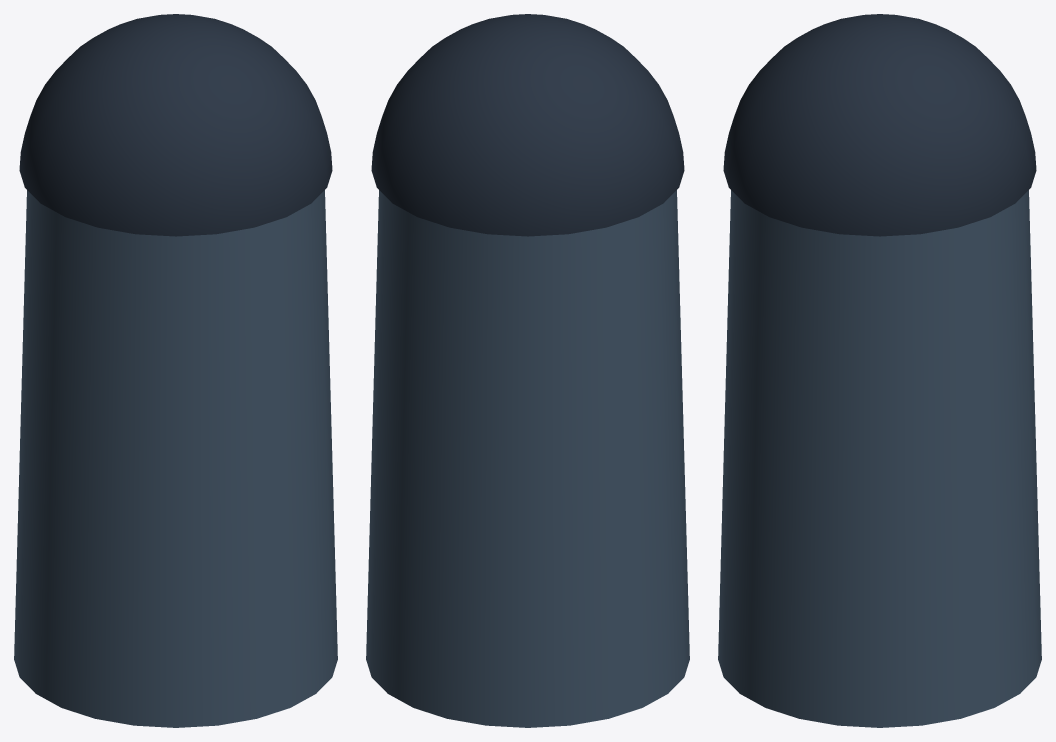
Rendered from fgd.glb.
The picture shows the model from 3 angles, left to right: view 1: azimuth 30°, elevation 25°; view 2: azimuth 150°, elevation 25°; view 3: azimuth 270°, elevation 25°; orthographic projection.
Bounding box in the file's own units: 12 × 25.8 × 12.
